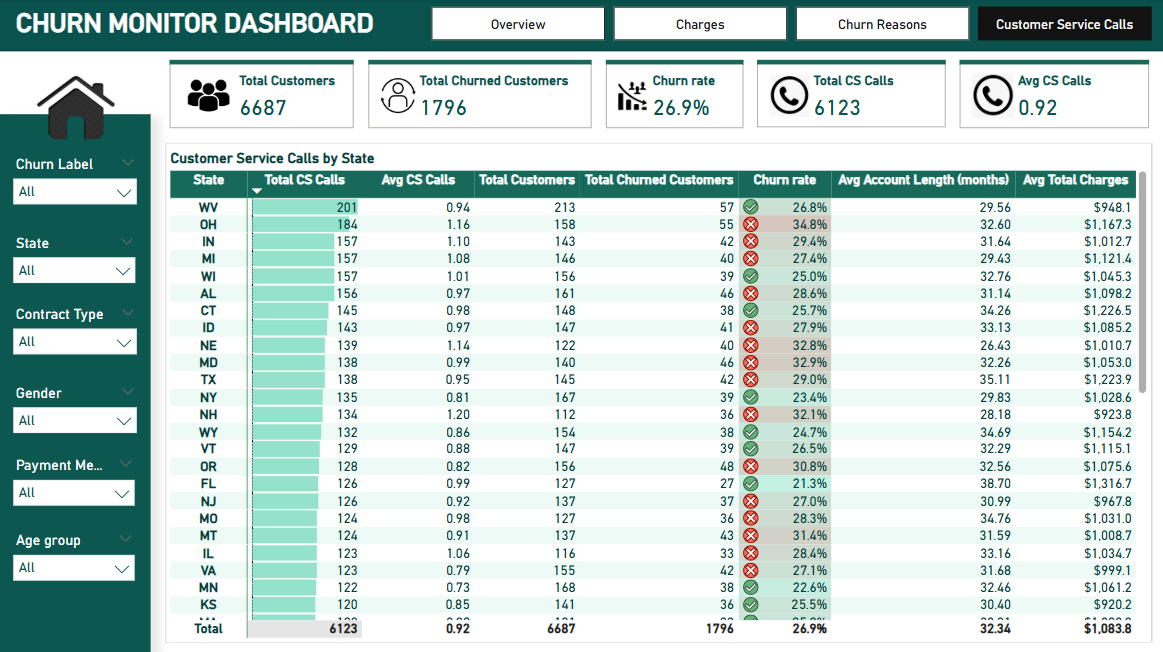

This screenshot's page, from the dashboard's own definition file:
{"tool":"powerbi","page":{"name":"Customer Service Calls","canvas":[1280,720],"ordinal":3},"visuals":[{"type":"shape","box":[0,125.7,165.7,592.9],"z":0},{"type":"textbox","box":[31.7,15.9,258.3,37.5],"z":1000},{"type":"image","box":[32.3,61.5,103.1,107.7],"z":2000},{"type":"slicer","fields":{"Values":["Databel - Data.Contract Type"]},"box":[0,189,155.8,85.1],"z":3000},{"type":"slicer","fields":{"Values":["Databel - Data.Gender"]},"box":[0,267.8,156.5,75.8],"z":4000},{"type":"slicer","fields":{"Values":["Databel - Data.State"]},"box":[0,341.2,154.1,78.3],"z":5000},{"type":"actionButton","box":[13,679.5,47.6,40.4],"z":6000},{"type":"slicer","fields":{"Values":["Databel - Data.Payment Method"]},"box":[1.2,417,152.9,80.7],"z":7000},{"type":"card","fields":{"Values":["Sum(Databel - Data.Customer Service Calls)"]},"box":[327.5,11.5,217.9,93.8],"z":8000},{"type":"card","fields":{"Values":["Avg(Databel - Data.Customer Service Calls)"]},"box":[620,11,238.5,94.2],"z":9000},{"type":"card","fields":{"Values":["_Measures.Churn rate"]},"box":[935.5,11,199.3,94.2],"z":10000},{"type":"lineChart","fields":{"Category":["Databel - Data.State"],"Series":["Databel - Data.Churn Label"],"Y":["Avg(Databel - Data.Customer Service Calls)"]},"box":[181.4,430,1087.1,270],"z":11000},{"type":"tableEx","fields":{"Values":["Databel - Data.State","Sum(Databel - Data.Customer Service Calls)","_Measures.Number of Customers","_Measures.Number of churned customers","_Measures.Churn rate"]},"box":[683.6,121.1,585.7,295.9],"z":12000},{"type":"clusteredBarChart","fields":{"Category":["Databel - Data.Churn Category"],"Y":["_Measures.% of Total Churned Customers"]},"box":[181.5,128.1,487.7,291.9],"z":13000},{"type":"actionButton","box":[53.4,679.5,49.1,40.4],"z":14000},{"type":"slicer","fields":{"Values":["Databel - Data.Age (bins)"]},"box":[2.9,493.4,152.9,72.1],"z":14001}]}

Visuals, with their boxes in screenshot pixels (x1, y1, x2, y2), scaled from the page's 1280x720 canvas onto the 1163x652 screenshot:
shape: [left=0, top=114, right=151, bottom=651]
textbox: [left=29, top=14, right=263, bottom=48]
image: [left=29, top=56, right=123, bottom=153]
slicer - Databel - Data.Contract Type: [left=0, top=171, right=142, bottom=248]
slicer - Databel - Data.Gender: [left=0, top=243, right=142, bottom=311]
slicer - Databel - Data.State: [left=0, top=309, right=140, bottom=380]
actionButton: [left=12, top=615, right=55, bottom=651]
slicer - Databel - Data.Payment Method: [left=1, top=378, right=140, bottom=451]
card - Sum(Databel - Data.Customer Service Calls): [left=298, top=10, right=496, bottom=95]
card - Avg(Databel - Data.Customer Service Calls): [left=563, top=10, right=780, bottom=95]
card - _Measures.Churn rate: [left=850, top=10, right=1031, bottom=95]
lineChart - Databel - Data.State x Databel - Data.Churn Label: [left=165, top=389, right=1153, bottom=634]
tableEx - Databel - Data.State x Sum(Databel - Data.Customer Service Calls): [left=621, top=110, right=1153, bottom=378]
clusteredBarChart - Databel - Data.Churn Category x _Measures.% of Total Churned Customers: [left=165, top=116, right=608, bottom=380]
actionButton: [left=49, top=615, right=93, bottom=651]
slicer - Databel - Data.Age (bins): [left=3, top=447, right=142, bottom=512]
